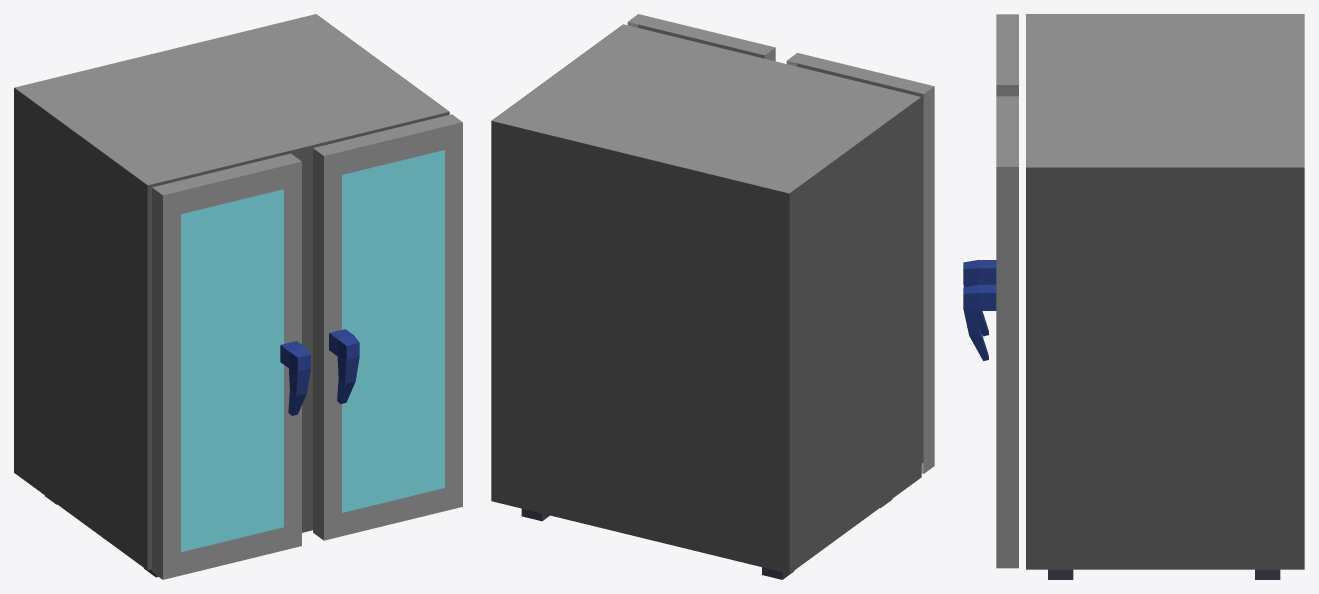
Rendered from Fire_o-bun.fbx.
3 renders of one model, left to right at view 1: azimuth 30°, elevation 25°; view 2: azimuth 150°, elevation 25°; view 3: azimuth 270°, elevation 25°, orthographic. The views are drawn at different scales.
Parts seen in each view (by area): view 1: o-bun; view 2: o-bun; view 3: o-bun.
Part boxes in pixels (box(x1,y1,x2,y2)): o-bun: box(14, 14, 462, 579); o-bun: box(491, 14, 934, 579); o-bun: box(963, 14, 1304, 579).
Bounding box in the file's own units: 355 × 454 × 333.
